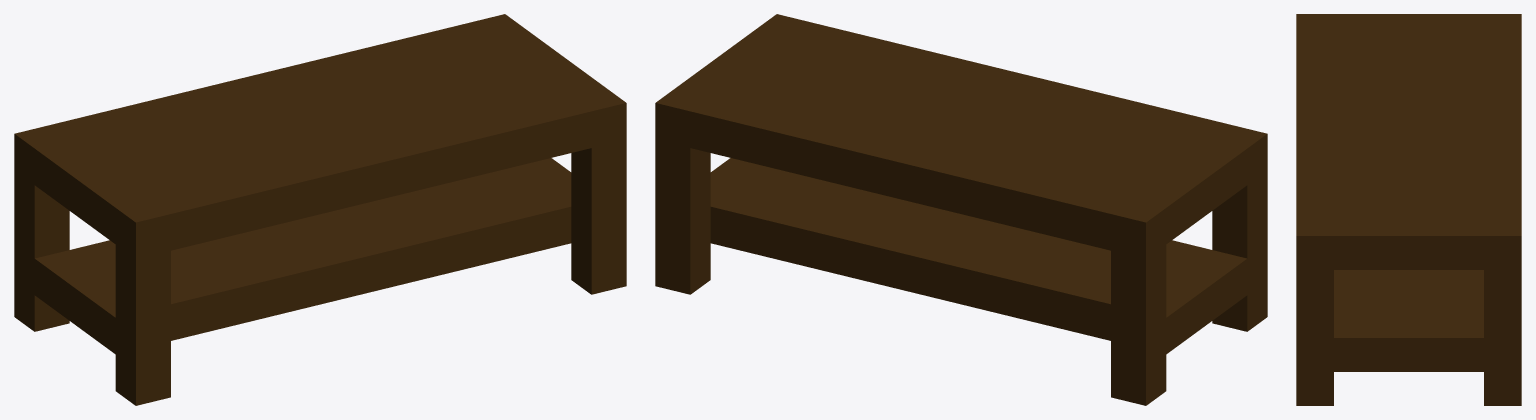
File: Coffe_Table.obj
The picture shows the model from 3 angles, left to right: view 1: azimuth 30°, elevation 25°; view 2: azimuth 150°, elevation 25°; view 3: azimuth 270°, elevation 25°; orthographic projection. The views are drawn at different scales.
Parts seen in each view (by area): view 1: Coffe_Table; view 2: Coffe_Table; view 3: Coffe_Table.
Boxes of the visible parts, x1,y1,x2,y2 form: Coffe_Table: (14,14,626,405); Coffe_Table: (655,14,1267,405); Coffe_Table: (1296,14,1521,405).
Size of the model in its own units: 14 by 5 by 6.
